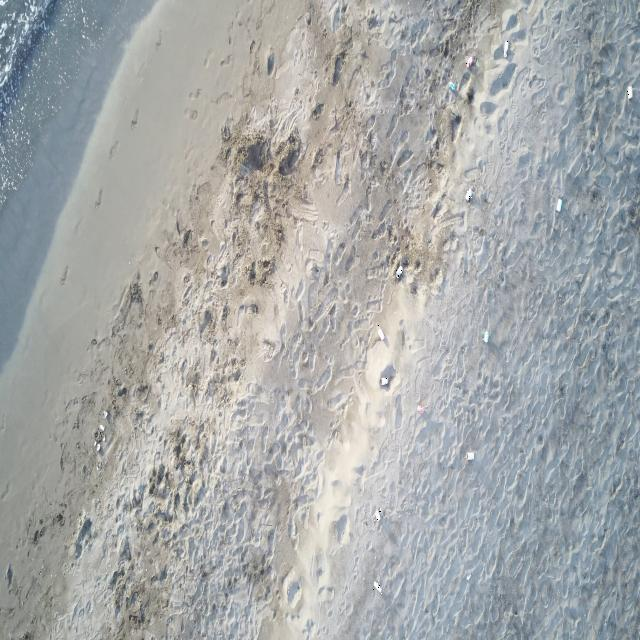Garbage: (380, 364, 395, 387), (94, 424, 104, 452), (464, 56, 475, 68), (376, 324, 384, 340), (395, 264, 403, 279), (464, 187, 472, 200), (372, 580, 380, 592), (555, 200, 562, 212), (373, 508, 380, 520), (503, 40, 508, 56), (416, 403, 424, 413), (447, 81, 455, 91), (380, 375, 387, 386), (627, 84, 632, 99), (464, 452, 473, 460), (101, 409, 108, 419), (483, 329, 488, 343), (96, 443, 100, 452), (466, 573, 470, 580), (99, 424, 103, 431)
